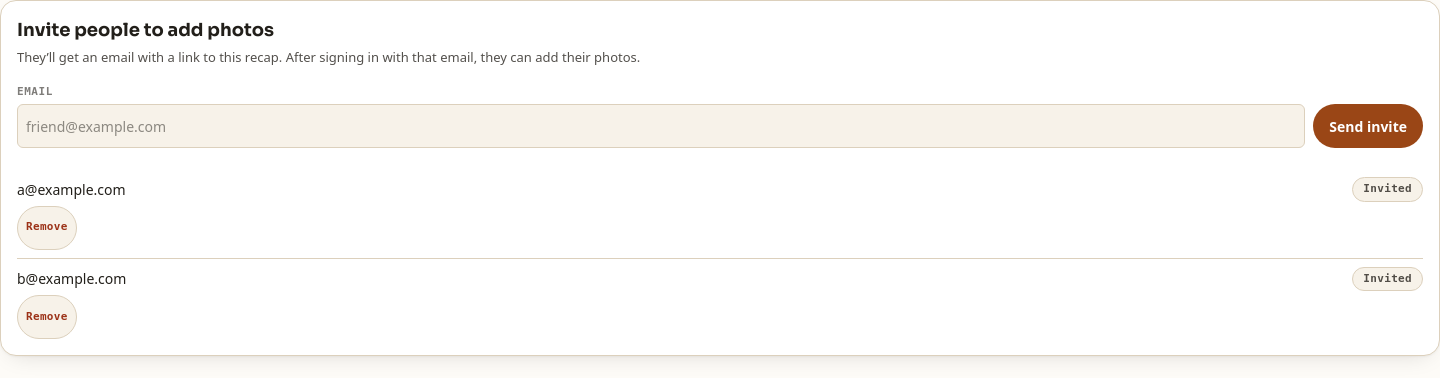
InvitePeople › focus management › removing the first of two pending invites moves focus to the next row’s Remove button
What coordinates should you click on to do the following:
click the button with aria-label "Remove invite to a@example.com"
I would click on:
 (47, 228)
Its box is [17, 206, 77, 250].
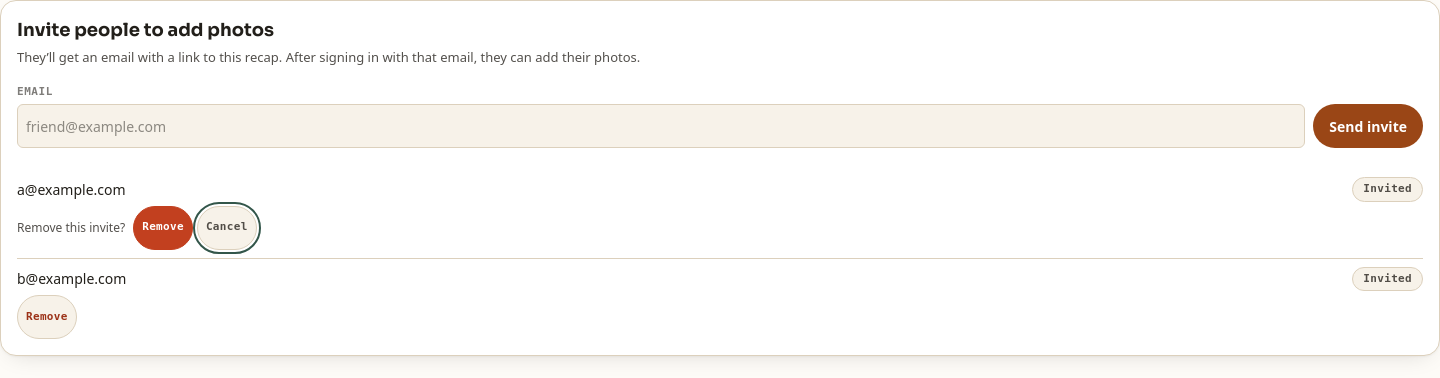
What coordinates should you click on to do the following:
click the button "Remove" next to "Remove this invite?"
I would click on:
 (163, 228)
Its box is [133, 206, 193, 250].
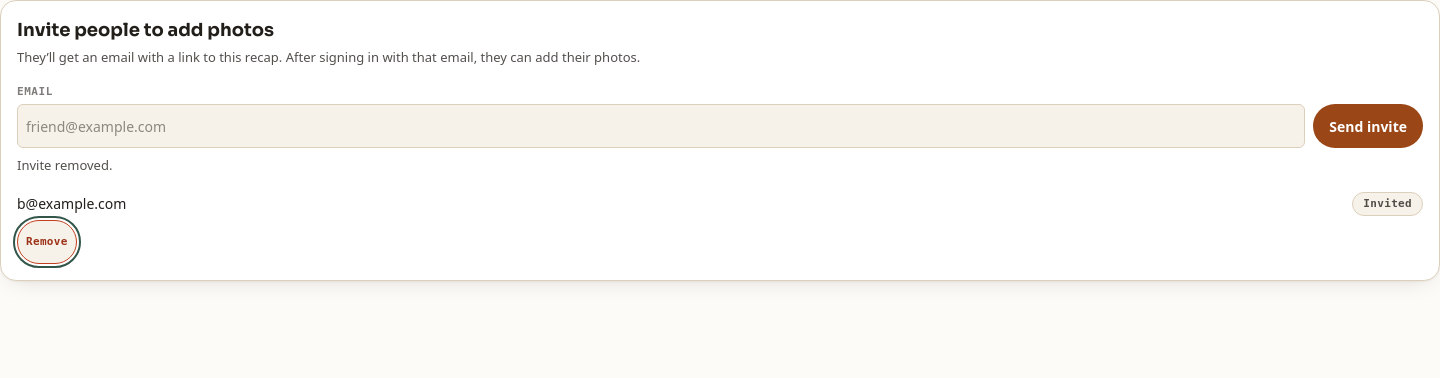
Expected: the text "a@example.com" is gone
